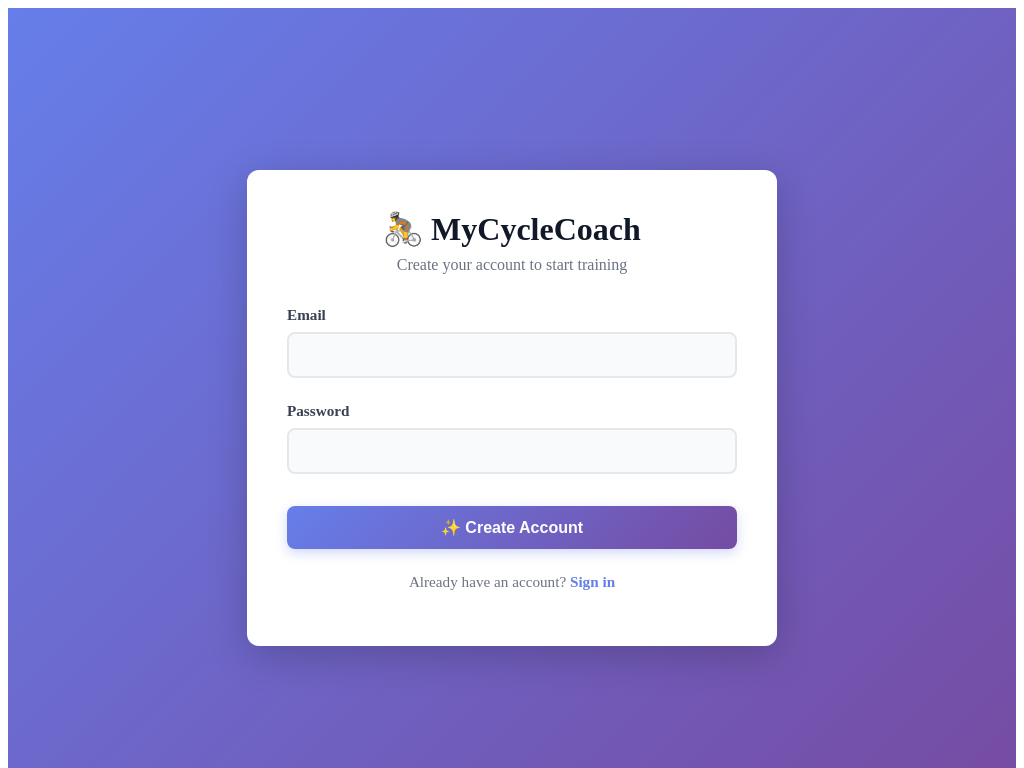
it: RegisterPage Component › shows validation error for invalid email format
Type "invalid-email" into the field. click: (512, 355)
box: [287,332,737,378]
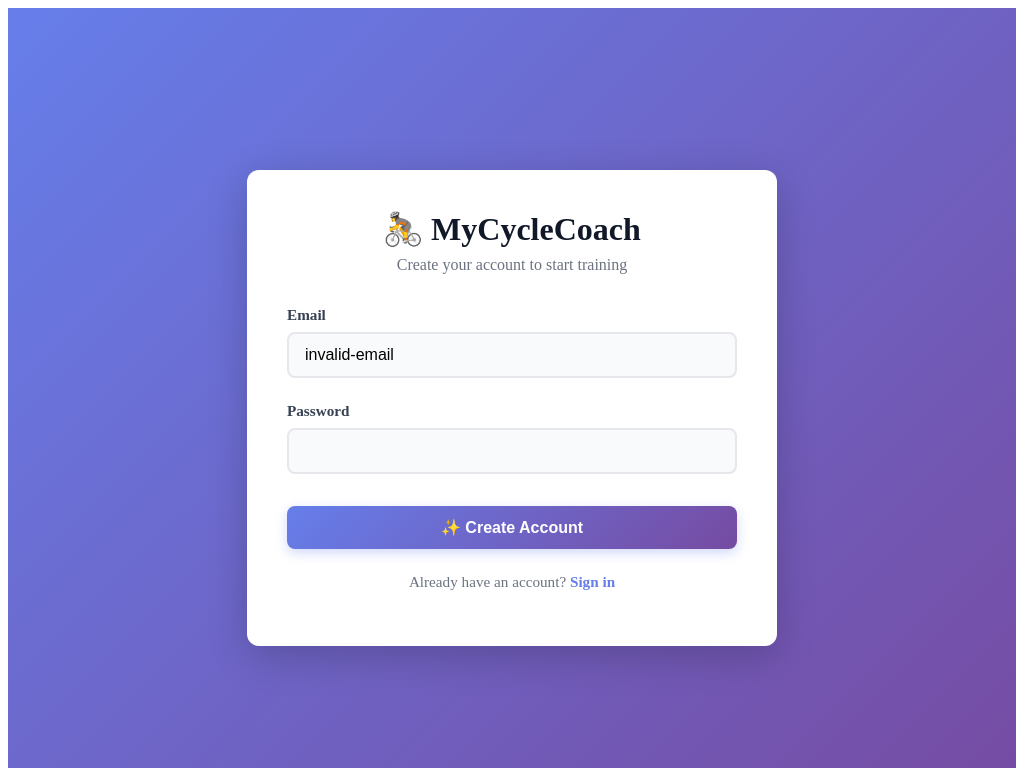
Click the button "✨ Create Account". click: (512, 527)
box: [287,506,737,549]
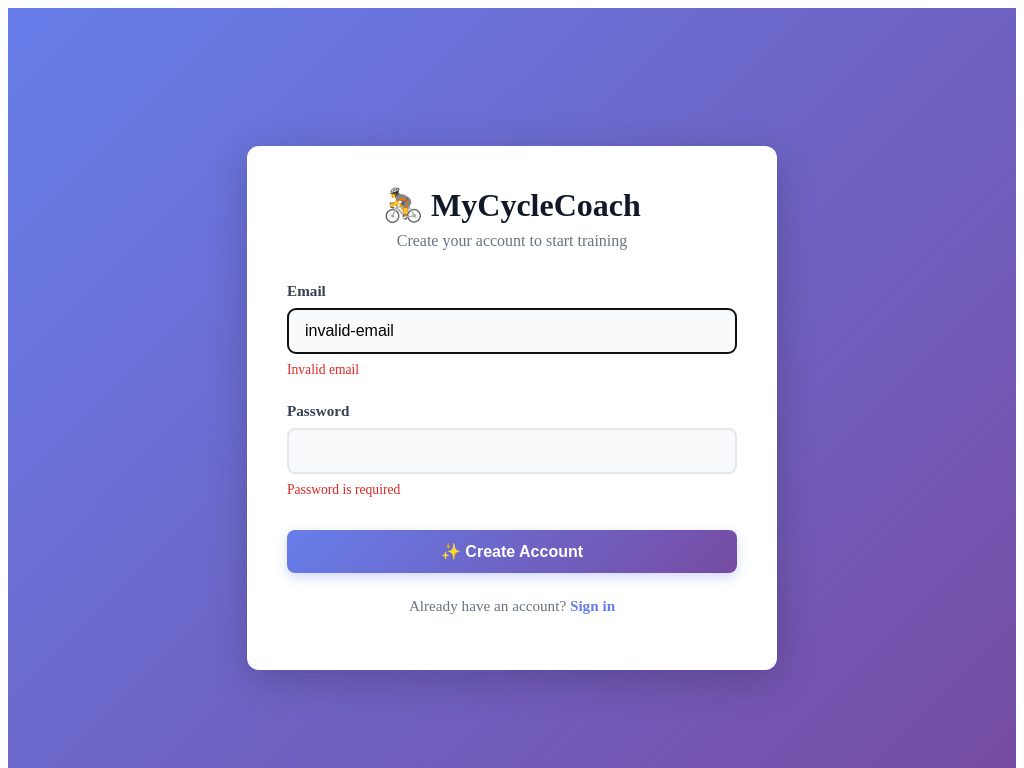
Expected: the text "Invalid email" is shown, [287,362,359,377]
